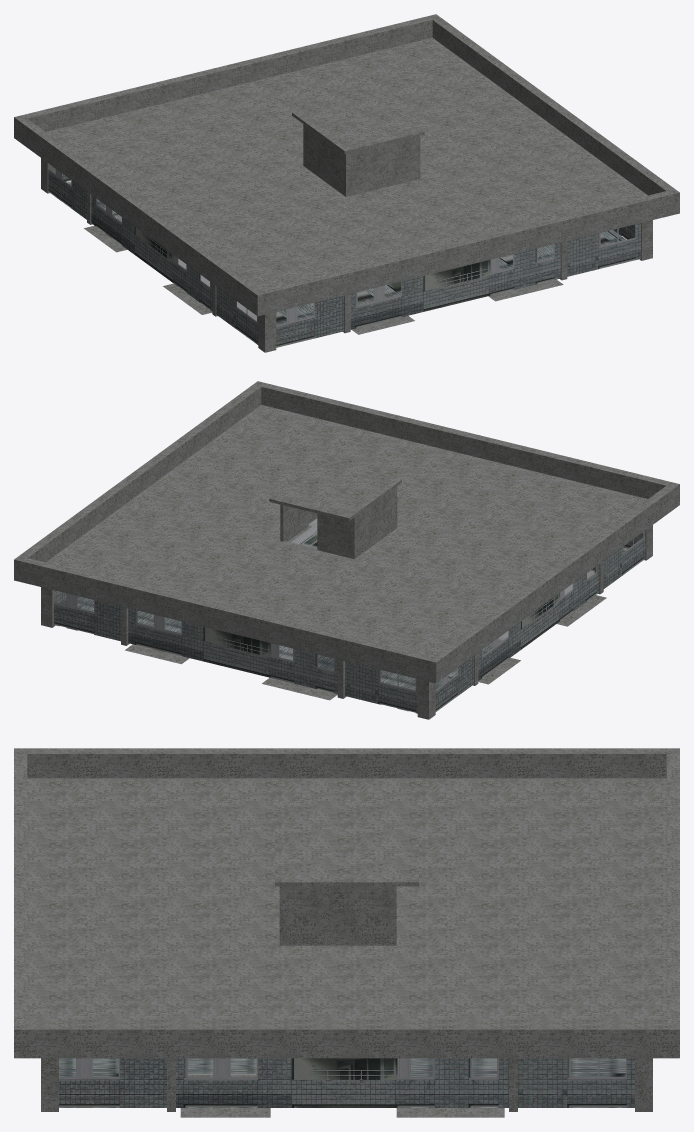
The model's file is BagSS07top_0.fbx.
The picture shows the model from 3 angles, top to bottom: view 1: azimuth 30°, elevation 25°; view 2: azimuth 150°, elevation 25°; view 3: azimuth 270°, elevation 25°; orthographic projection. The views are drawn at different scales.
Parts seen in each view (by area): view 1: topRoof300, Box03; view 2: topRoof300, Box03; view 3: topRoof300, Box03.
Boxes of the visible parts, x1,y1,x2,y2 form: topRoof300: (14, 14, 679, 352); Box03: (48, 169, 640, 347); topRoof300: (14, 381, 679, 719); Box03: (54, 518, 645, 713); topRoof300: (14, 748, 679, 1117); Box03: (59, 1058, 634, 1107).
Bounding box in the file's own units: 35.52 × 7.92 × 35.52.
